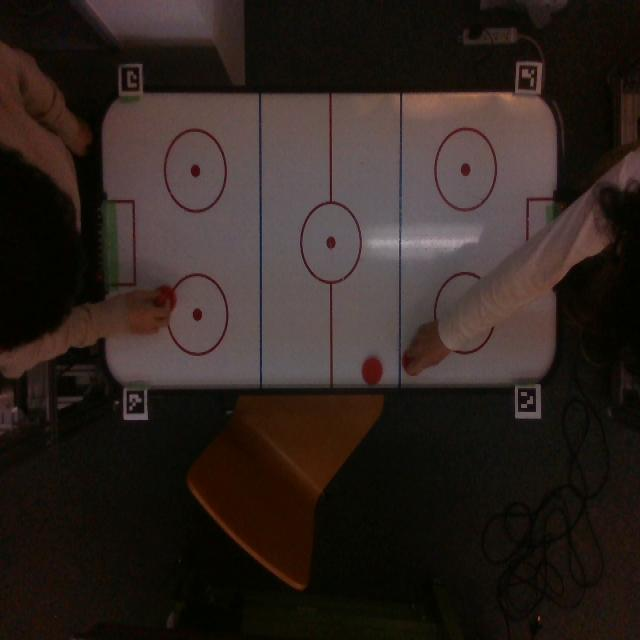puck: (362, 357, 382, 385)
